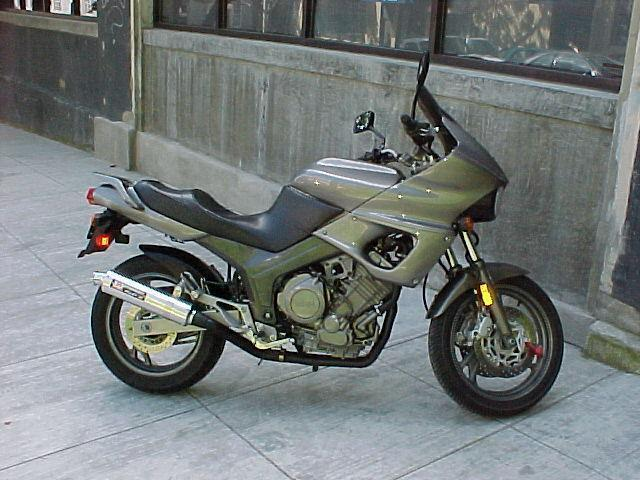motorcycle: (68, 66, 574, 429)
